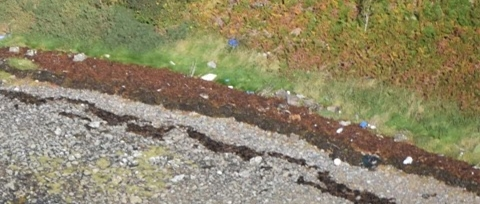scattered_barrel: (329, 112, 415, 167), (197, 34, 249, 90)
